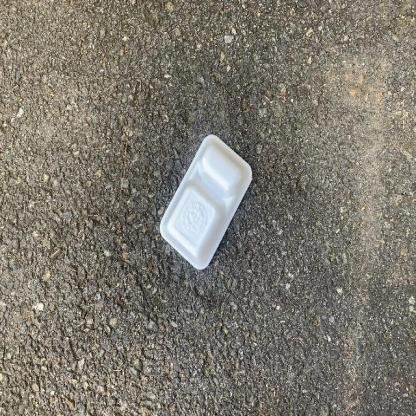Glass Cup: (160, 134, 252, 270), (160, 134, 252, 269)
